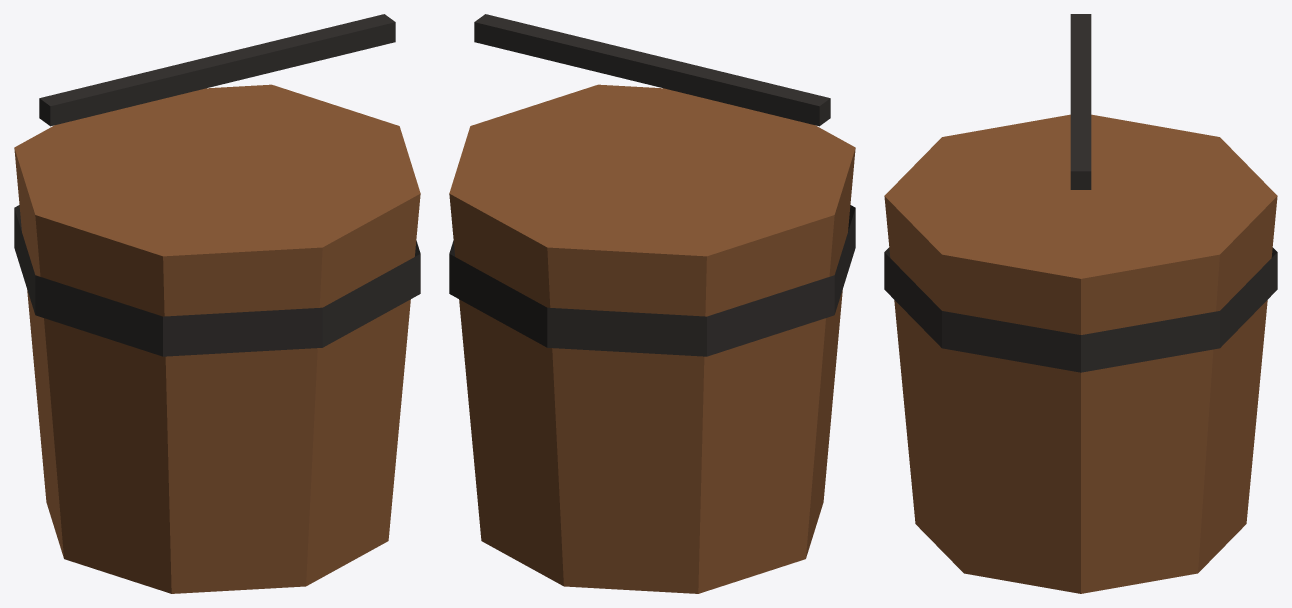
The model's file is bucket.glb.
The picture shows the model from 3 angles, left to right: view 1: azimuth 30°, elevation 25°; view 2: azimuth 150°, elevation 25°; view 3: azimuth 270°, elevation 25°; orthographic projection. The views are drawn at different scales.
Visible parts, largest first — view 1: props/bucket; view 2: props/bucket; view 3: props/bucket.
Boxes of the visible parts, x1,y1,x2,y2 form: props/bucket: (14, 14, 420, 593); props/bucket: (449, 14, 855, 593); props/bucket: (884, 14, 1277, 593).
Bounding box in the file's own units: 0.38 × 0.46 × 0.38.
